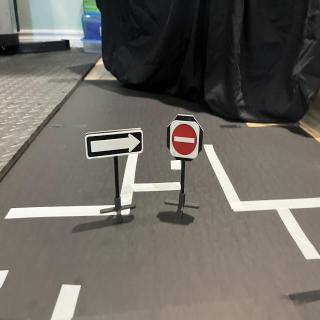sign_noentry: (171, 122, 202, 161)
sign_oneway_right: (86, 127, 145, 162)
